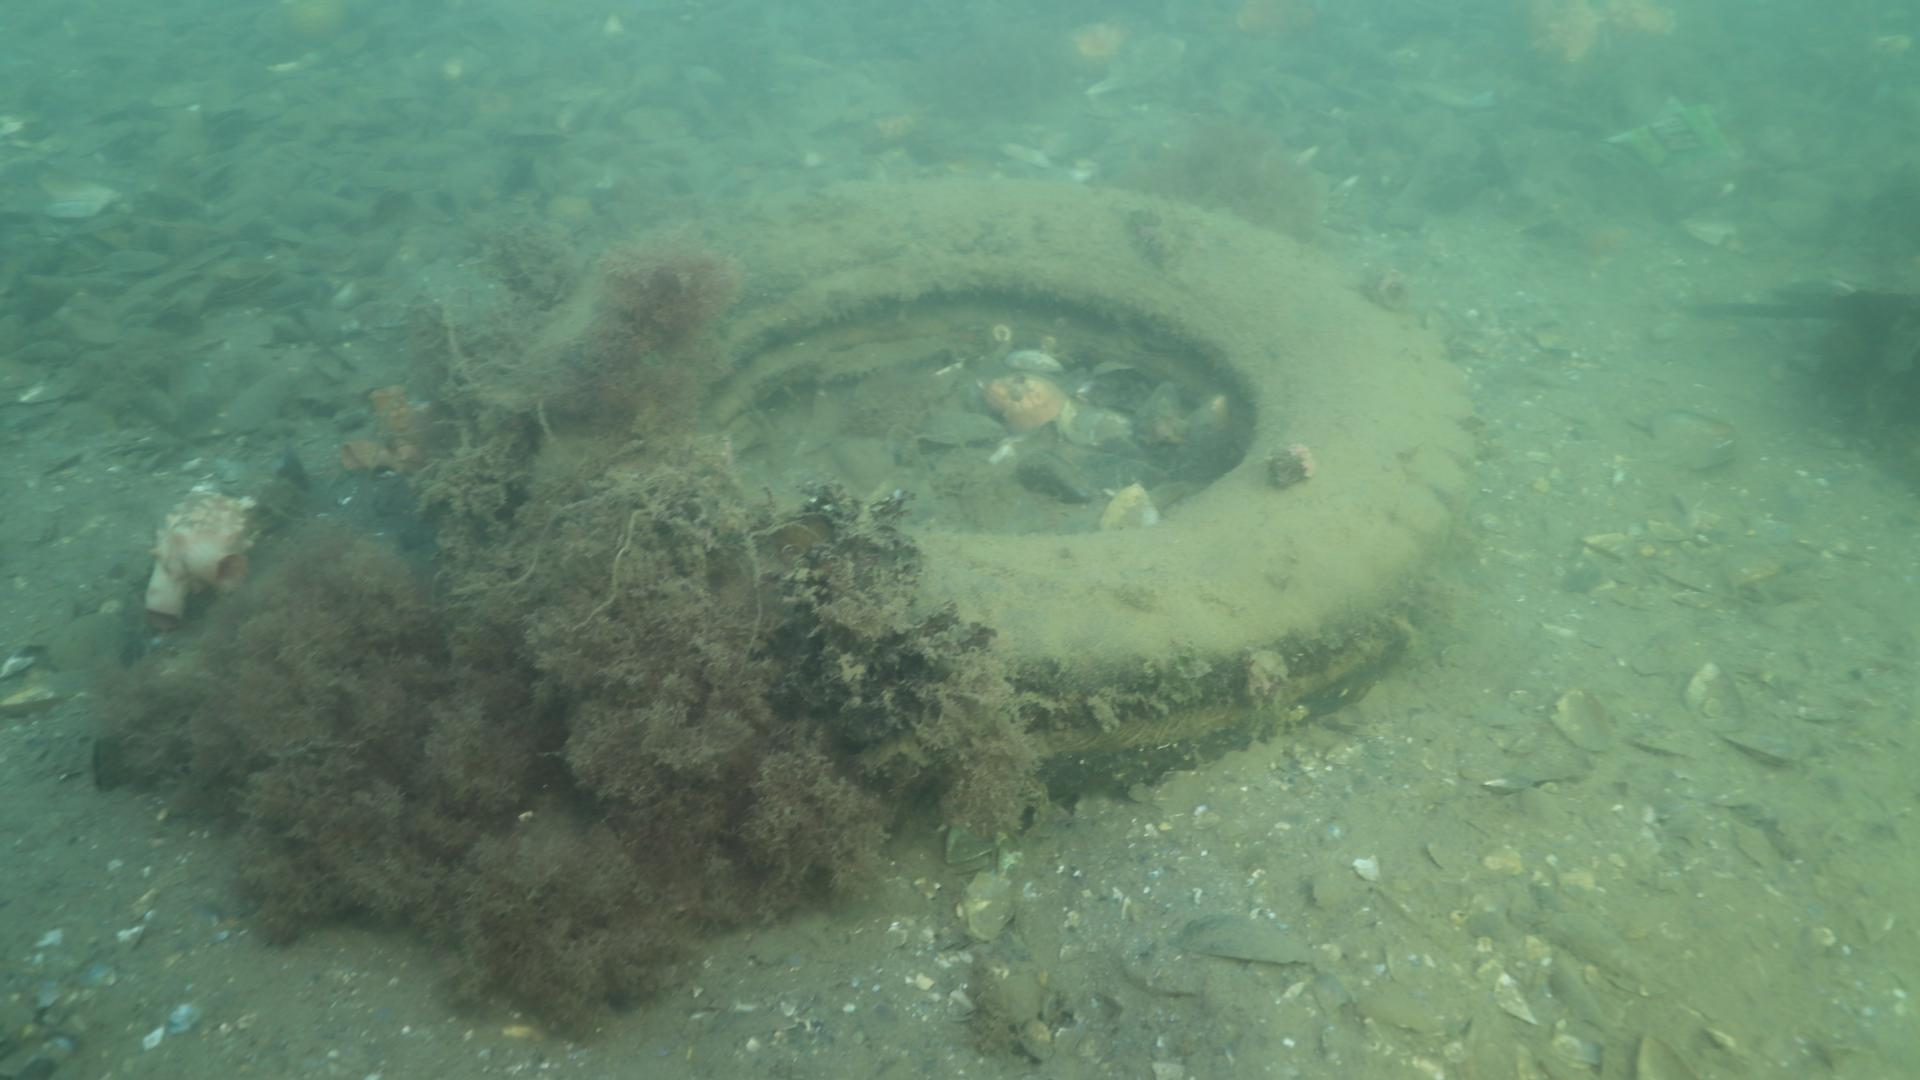tire: (527, 175, 1480, 815)
